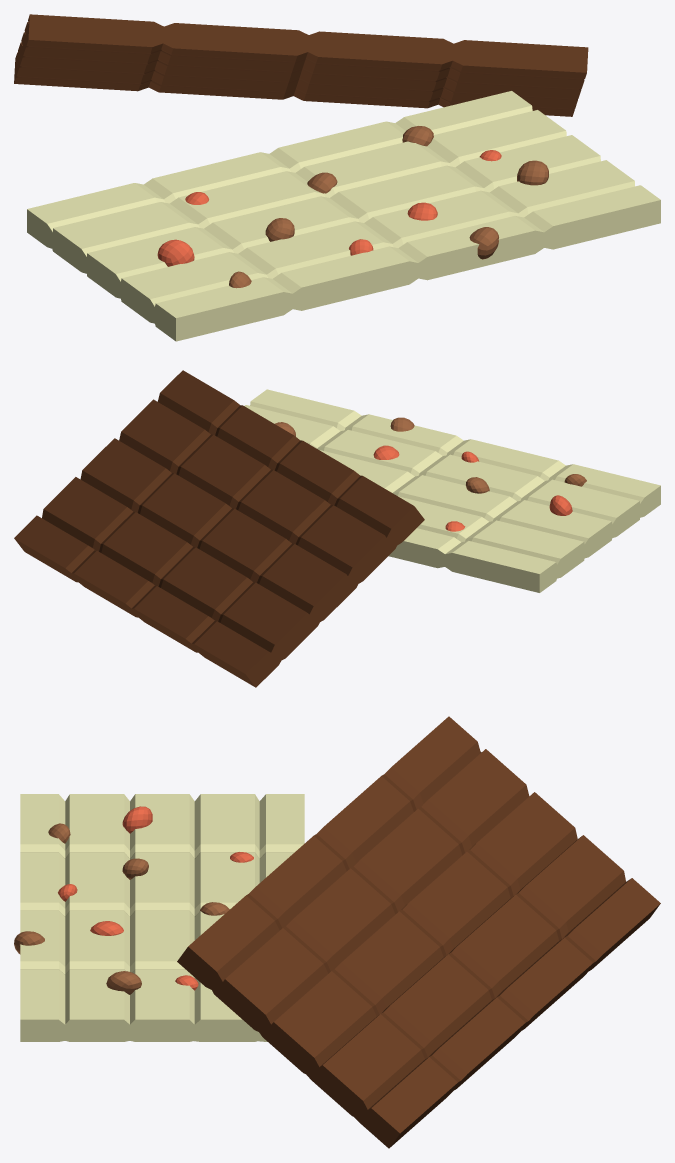
File: choc.fbx
The picture shows the model from 3 angles, top to bottom: view 1: azimuth 30°, elevation 25°; view 2: azimuth 150°, elevation 25°; view 3: azimuth 270°, elevation 25°; orthographic projection. The views are drawn at different scales.
Parts seen in each view (by area): view 1: Cube, Cube.001, Cube.006; view 2: Cube.001, Cube, Cube.006; view 3: Cube.001, Cube, Cube.006.
Boxes of the visible parts, x1=… form: Cube: x1=27, y1=91, x2=660, y2=341; Cube.001: x1=14, y1=14, x2=588, y2=116; Cube.006: x1=157, y1=126, x2=548, y2=288; Cube.001: x1=14, y1=370, x2=424, y2=687; Cube: x1=244, y1=389, x2=660, y2=592; Cube.006: x1=275, y1=417, x2=586, y2=531; Cube.001: x1=177, y1=716, x2=660, y2=1148; Cube: x1=20, y1=794, x2=304, y2=1041; Cube.006: x1=14, y1=806, x2=253, y2=994.
Bounding box in the file's own units: 45.85 × 14.99 × 45.13.
